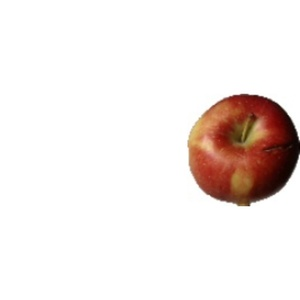maçã braeburn: (186, 93, 299, 204)
